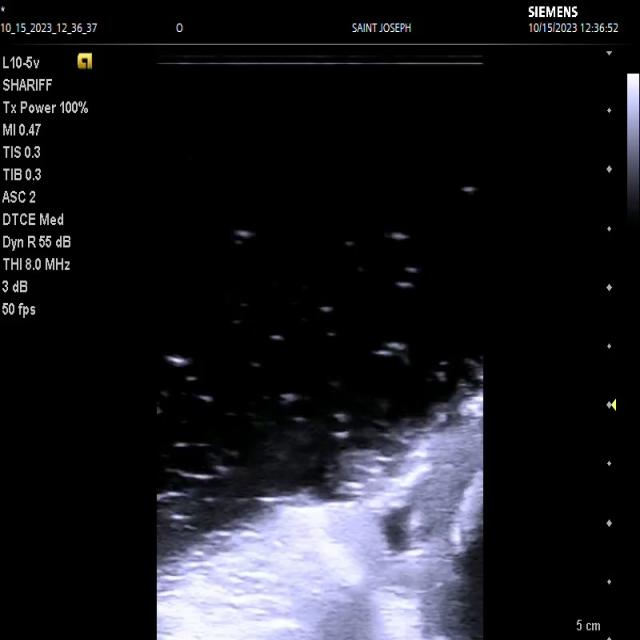tissue: (158, 395, 483, 640)
